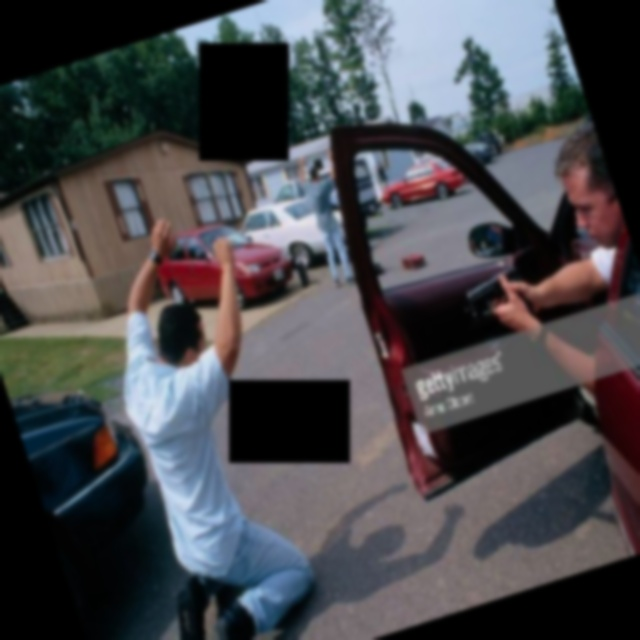gun: (449, 256, 532, 323)
